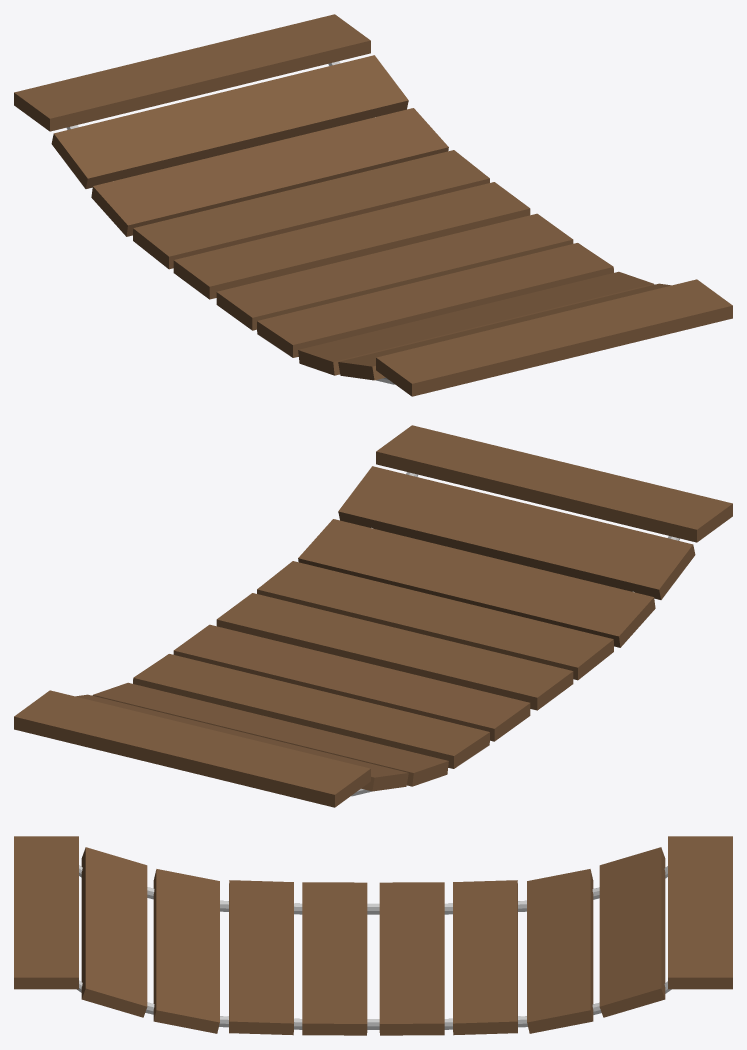
Rendered from RopeBridge_Onai.glb.
The picture shows the model from 3 angles, top to bottom: view 1: azimuth 30°, elevation 25°; view 2: azimuth 150°, elevation 25°; view 3: azimuth 270°, elevation 25°; orthographic projection. The views are drawn at different scales.
Parts seen in each view (by area): view 1: Cube; view 2: Cube; view 3: Cube.
Part boxes in pixels (left/top/right/bottom): Cube: left=14, top=14, right=732, bottom=396; Cube: left=14, top=425, right=732, bottom=807; Cube: left=14, top=836, right=732, bottom=1035.
Bounding box in the file's own units: 2.84 × 0.6138 × 6.11.
Materials: 2 (2 with a texture image).
